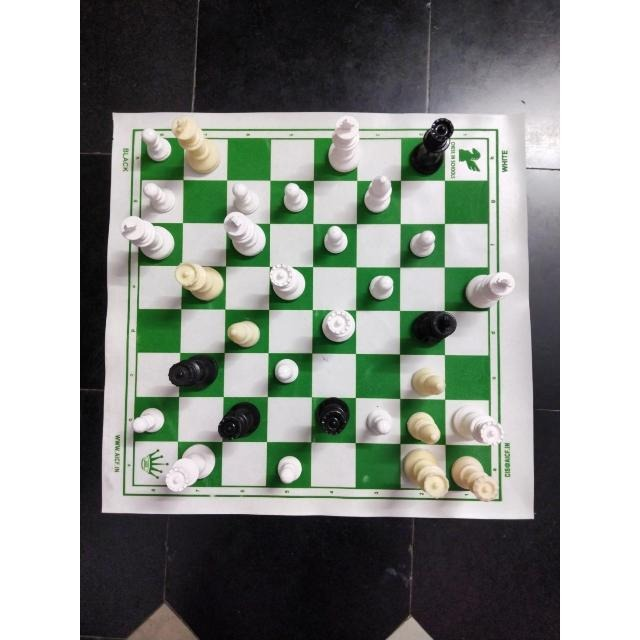black-king: (409, 307, 457, 347)
black-queen: (407, 115, 453, 177), (165, 354, 221, 394), (218, 400, 264, 442), (311, 396, 351, 441)
white-bishop: (404, 407, 444, 446), (225, 316, 266, 351), (360, 173, 394, 214), (408, 366, 447, 400)
white-king: (172, 116, 224, 176), (117, 216, 173, 262), (463, 269, 519, 309), (326, 112, 359, 176), (221, 210, 265, 258)
white-pawn: (136, 126, 173, 165), (136, 181, 176, 215), (130, 407, 170, 441), (361, 404, 397, 440), (318, 222, 352, 257), (228, 181, 261, 216), (274, 452, 306, 488), (407, 226, 439, 261), (272, 356, 304, 390), (281, 179, 311, 215), (370, 273, 398, 306)
white-queen: (162, 442, 217, 494), (400, 446, 452, 501), (453, 450, 502, 502), (451, 403, 505, 449), (171, 260, 225, 306), (265, 263, 305, 305), (317, 308, 356, 349)
